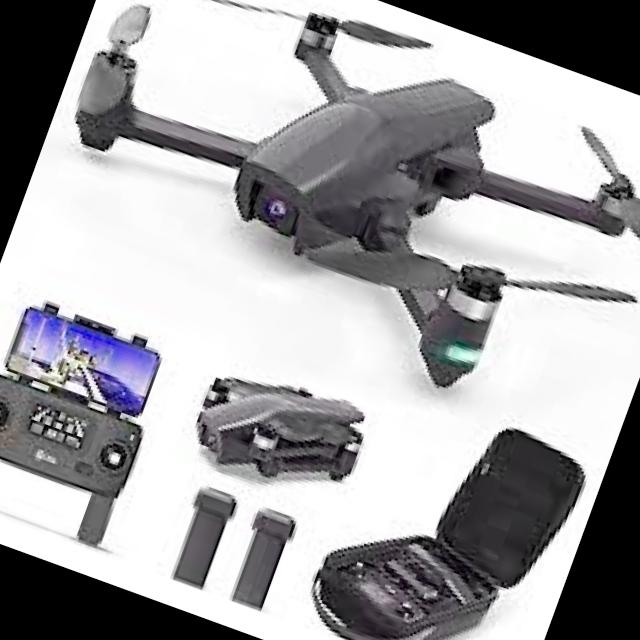drone: (10, 0, 640, 455)
